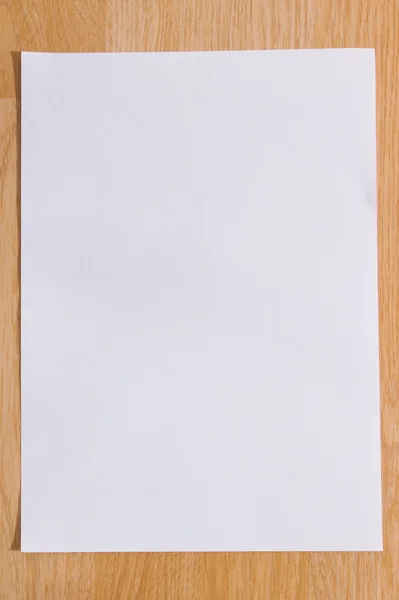page: (22, 49, 377, 551)
